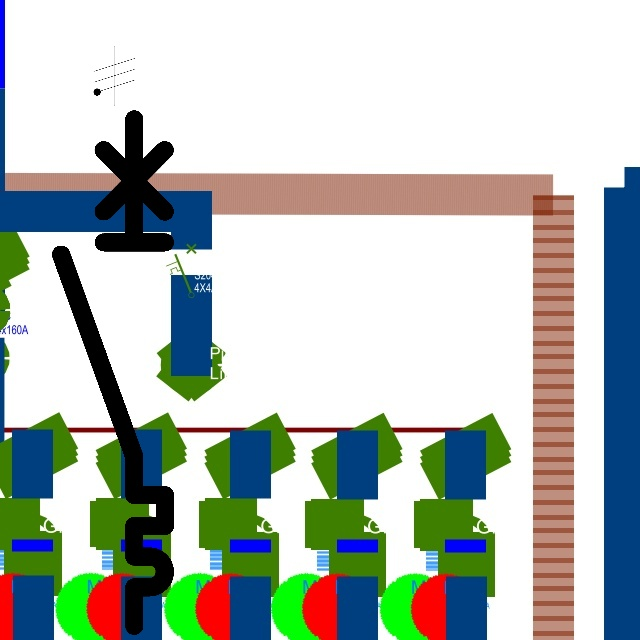interruptor_termomagnetico: (48, 106, 178, 638)
